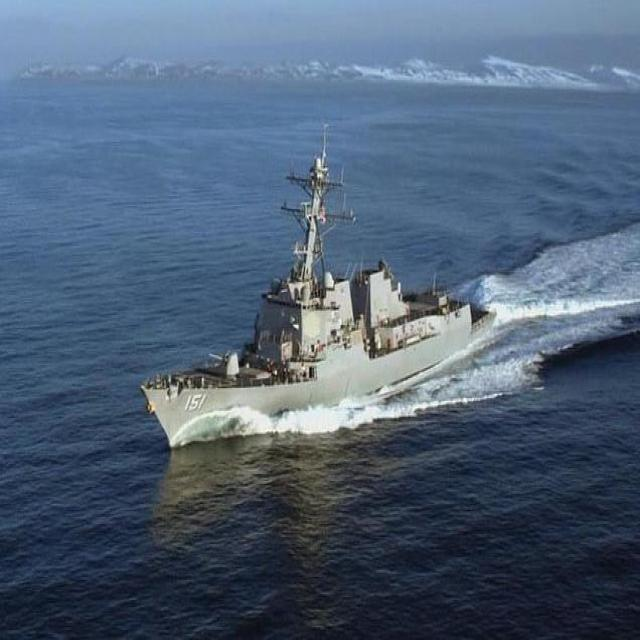navalvessels: (143, 122, 493, 453)
